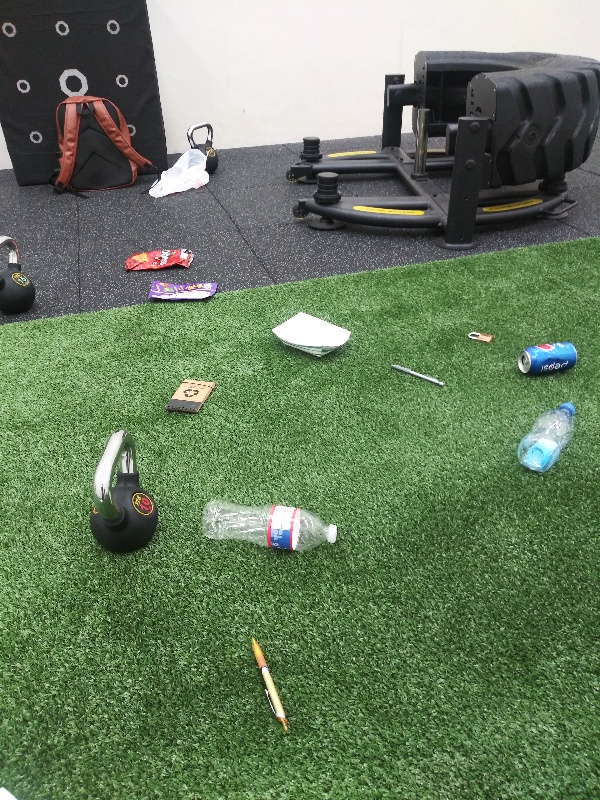bag: (139, 277, 220, 304), (119, 246, 196, 270)
bottle: (197, 497, 339, 558), (513, 400, 585, 478)
can: (512, 344, 585, 379)
plate: (267, 309, 357, 361)
